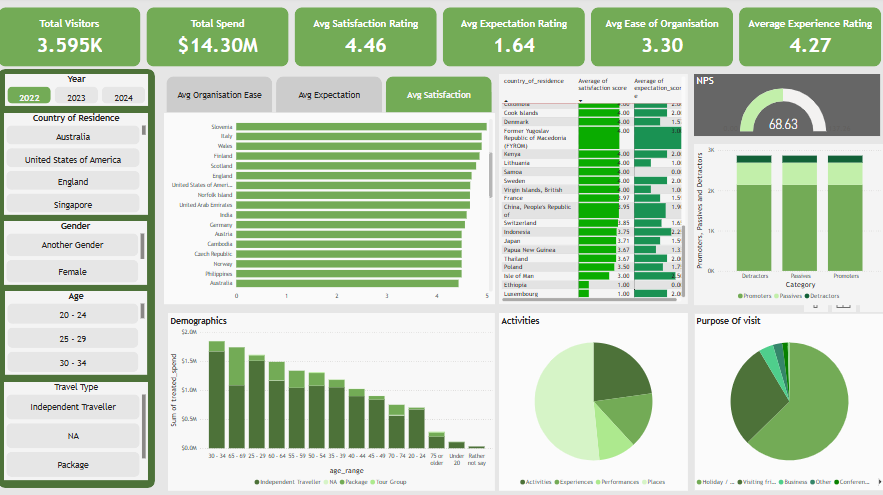

This screenshot's page, from the dashboard's own definition file:
{"tool":"powerbi","page":{"name":"Page 1","canvas":[1920,1080],"ordinal":0},"visuals":[{"type":"shape","box":[4.3,155.5,339.1,905],"z":0},{"type":"cardVisual","fields":{"Data":["Count(survey_main_header.response_id)","Sum(survey_main_header.treated_spend)","Avg(Copy of visitor_satisfaction.satisfaction score)","Measure.Avg Expectation","Avg(organisation_ease.organisation_ease rating)","Avg(environment.rating)"]},"box":[0,17.3,1920.2,138.2],"z":1000},{"type":"gauge","fields":{"Y":["Measure.NPS"]},"box":[1507.7,166.3,401.8,133.9],"z":2000},{"type":"advancedSlicerVisual","fields":{"Values":["Measure Selector.Measure Selector"]},"box":[362.9,166.9,715,88.6],"z":3000},{"type":"barChart","fields":{"Y":["Measure.Avg Satisfaction"],"Category":["survey_main_header.country_of_residence"]},"box":[362.9,251.2,715,412.6],"z":4000},{"type":"pieChart","title":"Activities","fields":{"Series":["activitie.category"],"Y":["CountNonNull(activitie.response_id)"]},"box":[1085.9,682.9,408.2,384.5],"z":5000},{"type":"pieChart","title":"Purpose Of visit","fields":{"Y":["CountNonNull(activitie.category)"],"Category":["survey_main_header.purpose_of_visit_main"]},"box":[1507.1,682.9,412.6,384.5],"z":6000},{"type":"tableEx","fields":{"Values":["survey_main_header.country_of_residence","Avg(Copy of visitor_satisfaction.satisfaction score)","Avg(Copy of visitor_satisfaction.expectation_score)"]},"box":[1086.5,166.9,408.2,496.8],"z":7000},{"type":"advancedSlicerVisual","title":"Country of Residence","fields":{"Values":["survey_main_header.country_of_residence"]},"box":[18.3,250,311,220.3],"z":8000},{"type":"advancedSlicerVisual","title":"Gender","fields":{"Values":["survey_main_header.gender"]},"box":[17.3,483.8,308.9,138.2],"z":9000},{"type":"advancedSlicerVisual","title":"Travel Type","fields":{"Values":["survey_main_header.travel_type"]},"box":[18.3,831.6,311,211.7],"z":10000},{"type":"advancedSlicerVisual","title":"Year","fields":{"Values":["survey_main_header.year"]},"box":[19.3,166.3,308.9,69.1],"z":11000},{"type":"columnChart","fields":{"Category":["NPS Categories.Category"],"Y":["Measure.Promoters","Measure.Passives","Measure.Detractors"]},"box":[1507.5,317.5,412.5,347.5],"z":12000},{"type":"columnChart","title":"Demographics","fields":{"Category":["survey_main_header.age_range"],"Series":["survey_main_header.travel_type"],"Y":["Sum(survey_main_header.treated_spend)"]},"box":[370.9,682.9,706.3,384.5],"z":13000},{"type":"advancedSlicerVisual","title":"Age","fields":{"Values":["survey_main_header.age_range"]},"box":[19.4,635,306.7,181.4],"z":14000}]}

Visuals, with their boxes in screenshot pixels (x1, y1, x2, y2), scaled from the page's 1920x1080 canvas onto the 883x495 screenshot:
shape: x1=2 y1=71 x2=158 y2=486
cardVisual - Count(survey_main_header.response_id) x Sum(survey_main_header.treated_spend): x1=0 y1=8 x2=882 y2=71
gauge - Measure.NPS: x1=693 y1=76 x2=878 y2=138
advancedSlicerVisual - Measure Selector.Measure Selector: x1=167 y1=76 x2=496 y2=117
barChart - Measure.Avg Satisfaction x survey_main_header.country_of_residence: x1=167 y1=115 x2=496 y2=304
"Activities" pieChart: x1=499 y1=313 x2=687 y2=489
"Purpose Of visit" pieChart: x1=693 y1=313 x2=882 y2=489
tableEx - survey_main_header.country_of_residence x Avg(Copy of visitor_satisfaction.satisfaction score): x1=500 y1=76 x2=687 y2=304
"Country of Residence" advancedSlicerVisual: x1=8 y1=115 x2=151 y2=216
"Gender" advancedSlicerVisual: x1=8 y1=222 x2=150 y2=285
"Travel Type" advancedSlicerVisual: x1=8 y1=381 x2=151 y2=478
"Year" advancedSlicerVisual: x1=9 y1=76 x2=151 y2=108
columnChart - NPS Categories.Category x Measure.Promoters: x1=693 y1=146 x2=882 y2=305
"Demographics" columnChart: x1=171 y1=313 x2=495 y2=489
"Age" advancedSlicerVisual: x1=9 y1=291 x2=150 y2=374
